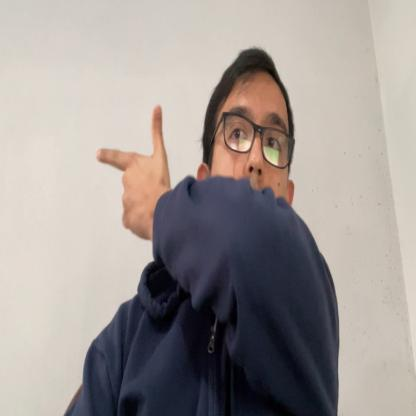G: (96, 103, 167, 242)
